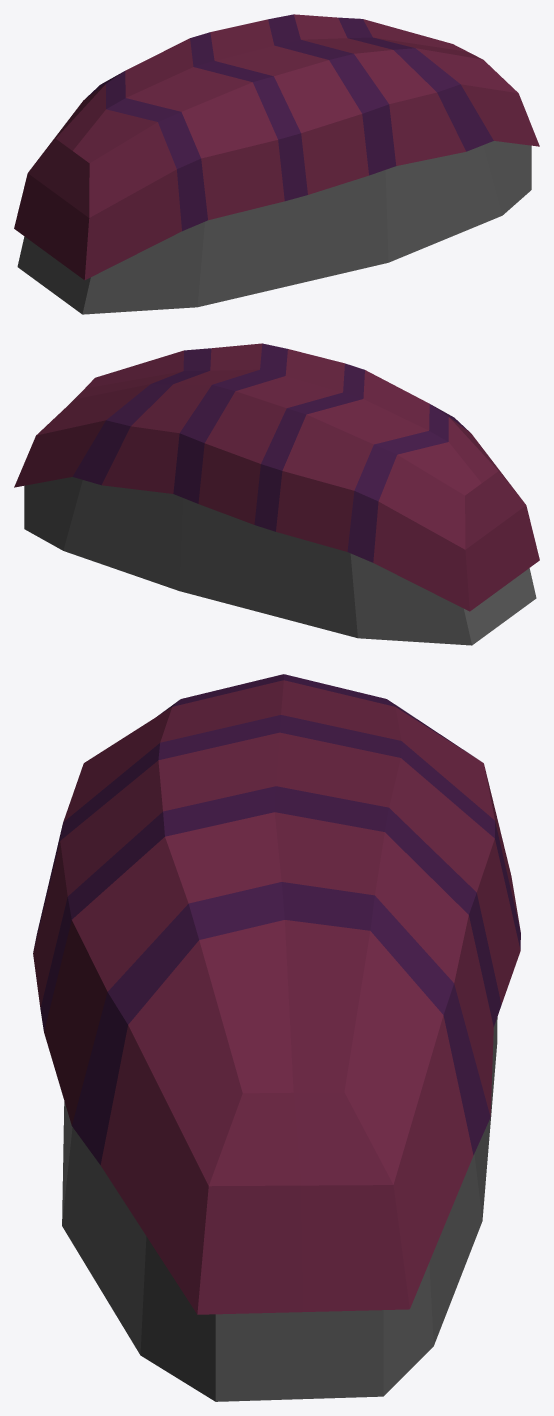
File: Sushi_Nigiri2.obj
3 views of the same model, one above another, from view 1: azimuth 30°, elevation 25°; view 2: azimuth 150°, elevation 25°; view 3: azimuth 270°, elevation 25° (orthographic). The views are drawn at different scales.
Visible parts, largest first — view 1: Sushi_Nigiri2_Cube.013; view 2: Sushi_Nigiri2_Cube.013; view 3: Sushi_Nigiri2_Cube.013.
Part boxes in pixels (x1,y1,x2,y2): Sushi_Nigiri2_Cube.013: [14, 14, 539, 314]; Sushi_Nigiri2_Cube.013: [14, 343, 539, 645]; Sushi_Nigiri2_Cube.013: [33, 674, 520, 1401].
Size of the model in its own units: 0.5976 by 0.2344 by 0.2716.
